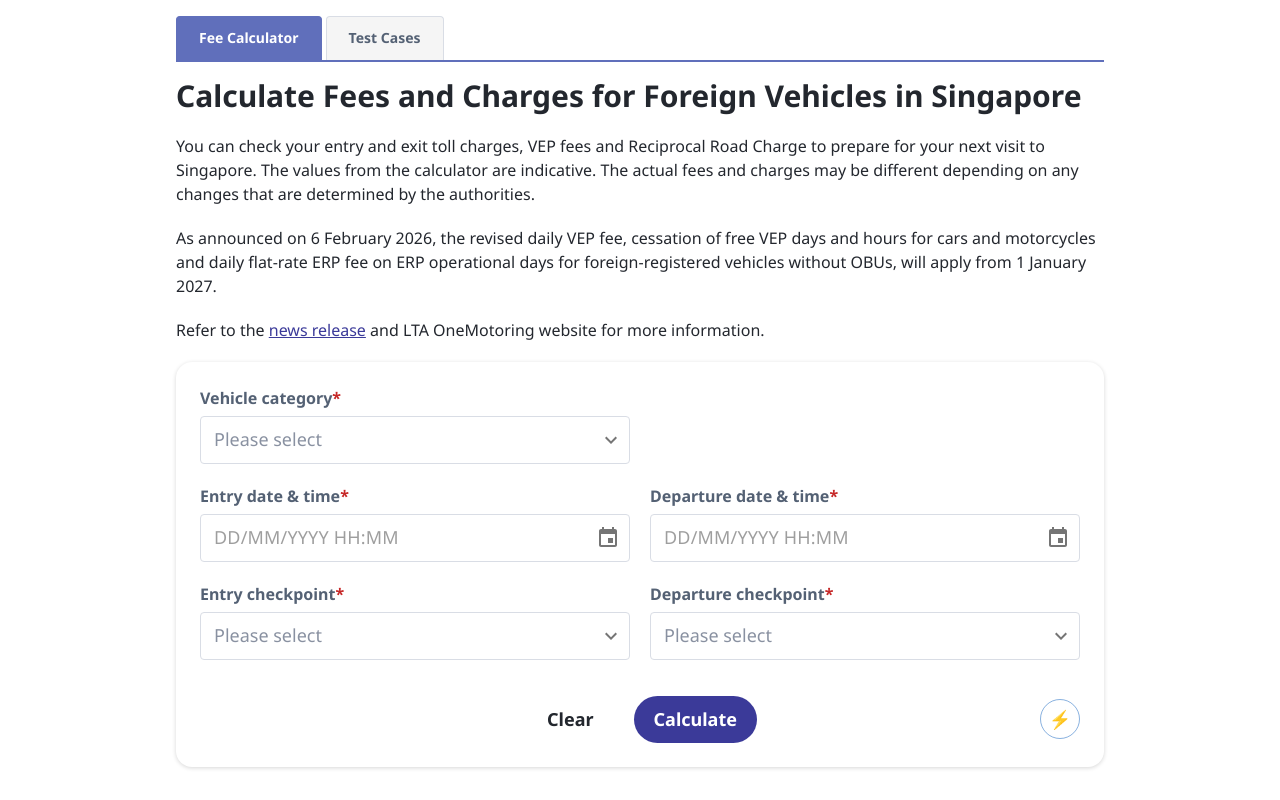
Test: Fee Calculator tab › shows required errors when submitting an empty form
Click the button with test id "calculate-button".
click(696, 720)  # box [634,696,757,744]
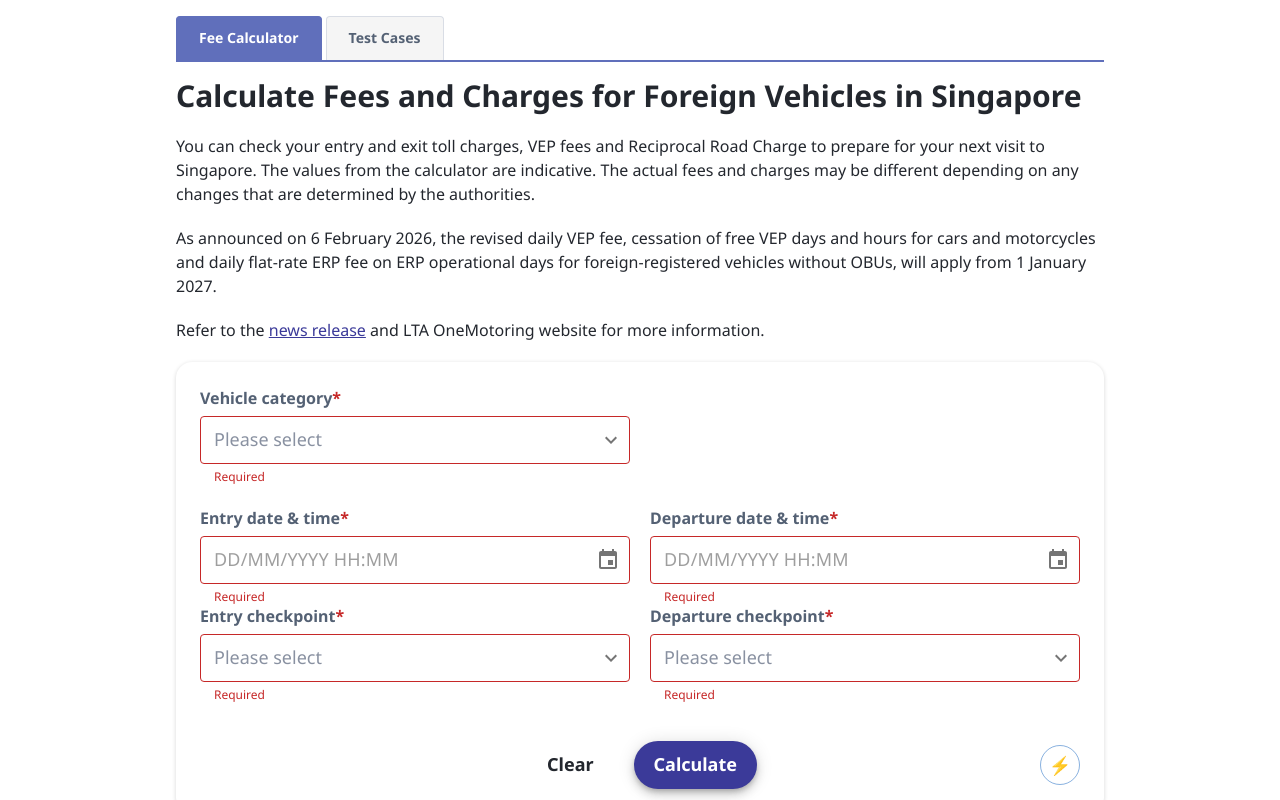
Check: the text "Required" below "Vehicle category" is shown, box [214,468,265,485]
